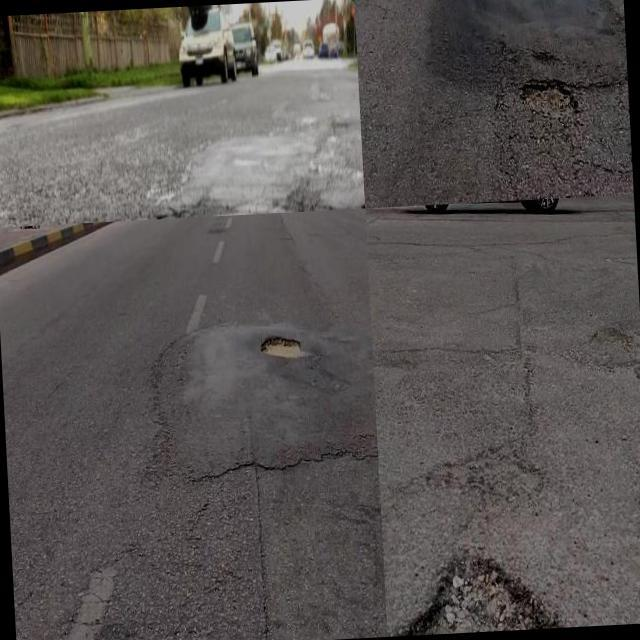Pothole: (396, 555, 557, 636), (524, 84, 576, 120), (261, 336, 305, 359)
